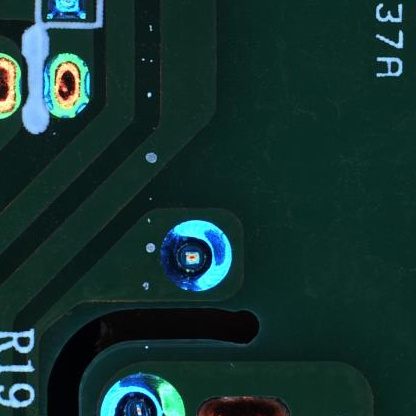spot: (160, 218, 233, 292), (98, 371, 185, 416), (41, 51, 91, 120), (1, 51, 23, 122)
